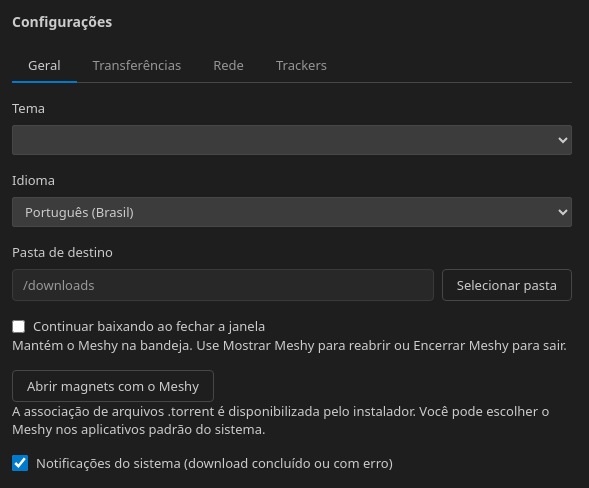
Test: SettingsPanel — seção Rede avançada › checkboxes refletem os valores carregados — todos desabilitados
Click the tab "Rede": (229, 65) [197,48,260,82]
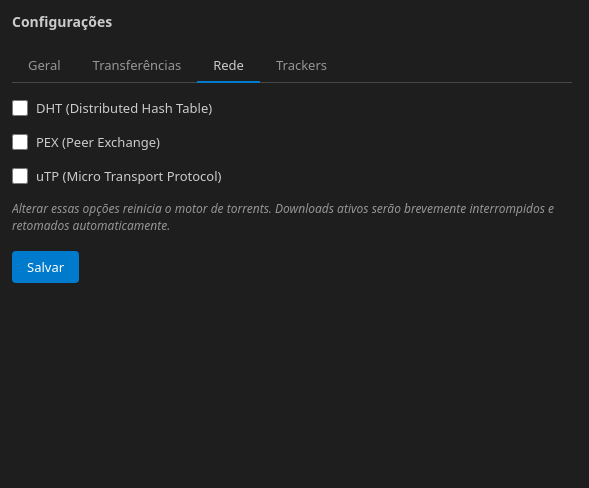
Expected: the checkbox labelled "DHT (Distributed Hash Table)" is not checked, [12,100,28,116]
Expected: the checkbox labelled "PEX (Peer Exchange)" is not checked, [12,134,28,150]
Expected: the checkbox labelled "uTP (Micro Transport Protocol)" is not checked, [12,168,28,184]
